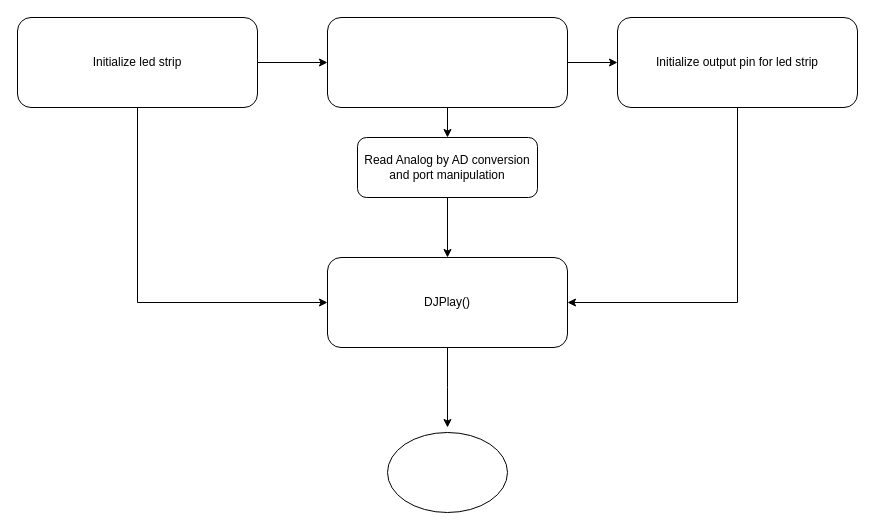
This 875x530 diagram has some shape labels left out. Each missing label, with the box of its shape:
In Loop: (386, 432, 508, 512)
Initialize input pin for sound dectector: (326, 16, 568, 108)
